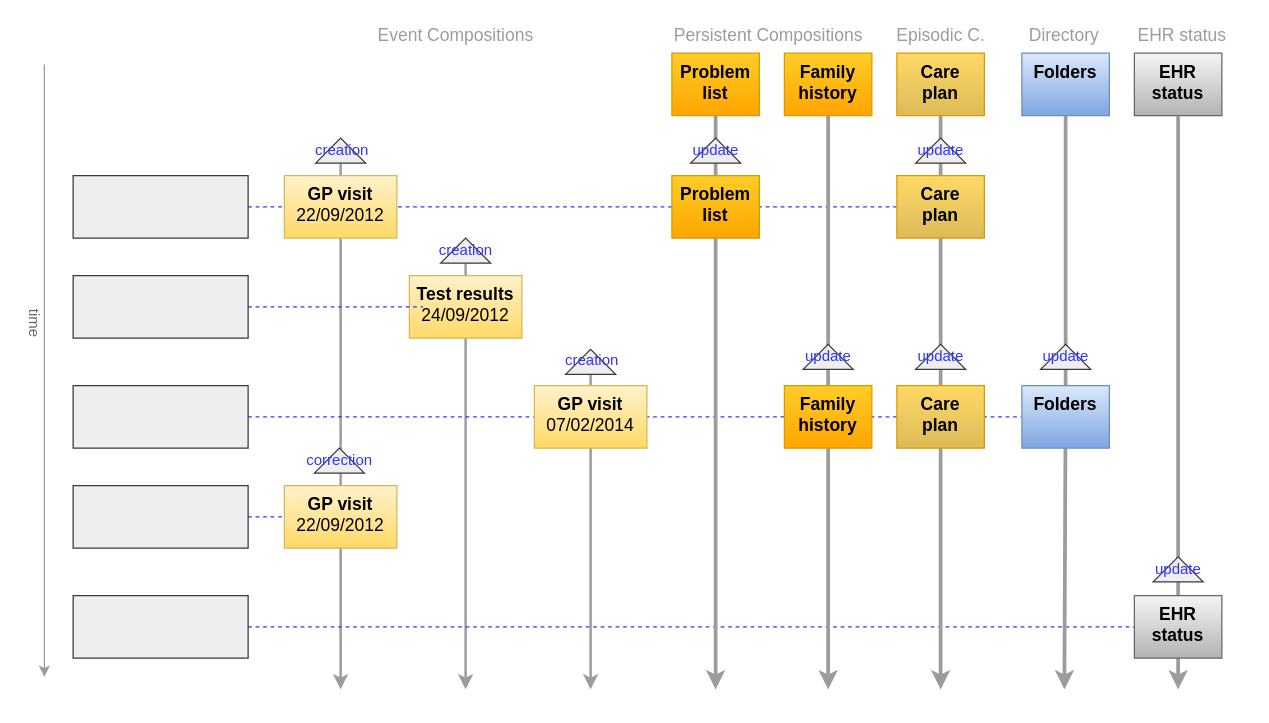
Image size: 1269x723. Some labels were removed from this diagram. The shapes that lost their labels are listed below. From the top down, each one's centre as x and y in pixels, then its label:
At (x=160, y=206): "CONTRIBUTION time = 22/09/2012 type = 251|modification|".
At (x=160, y=306): "CONTRIBUTION time = 24/09/2012 type = 252|synthesis|".
At (x=160, y=416): "CONTRIBUTION time = 07/02/2014 type = 251|modification|".
At (x=160, y=516): "CONTRIBUTION time = 01/05/2014 type = 250|amendment|".
At (x=160, y=626): "CONTRIBUTION time = 01/06/2015 type = 251|modification|".
